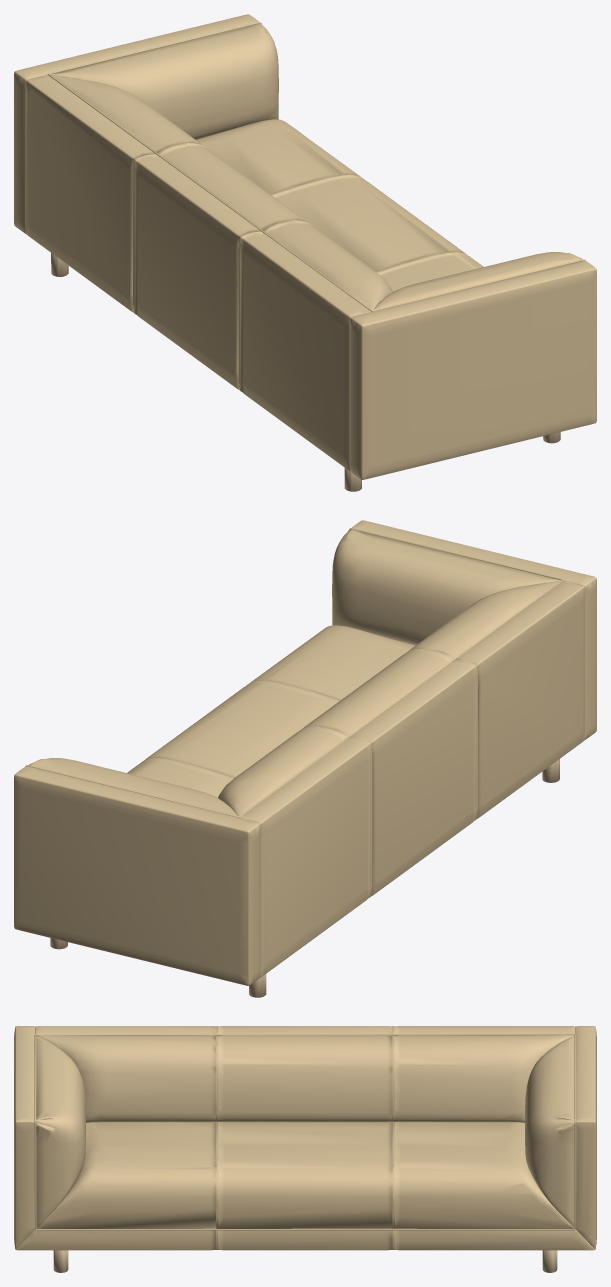
The model's file is HMI_Rolled_Arm_Sofa_84_3D.fbx.
3 renders of one model, top to bottom at view 1: azimuth 30°, elevation 25°; view 2: azimuth 150°, elevation 25°; view 3: azimuth 270°, elevation 25°, orthographic. The views are drawn at different scales.
Parts seen in each view (by area): view 1: Group1; view 2: Group1; view 3: Group1.
Boxes of the visible parts, x1=… form: Group1: x1=14, y1=14, x2=596, y2=491; Group1: x1=14, y1=520, x2=596, y2=997; Group1: x1=14, y1=1026, x2=596, y2=1272.
Bounding box in the file's own units: 399 × 305 × 1012.
